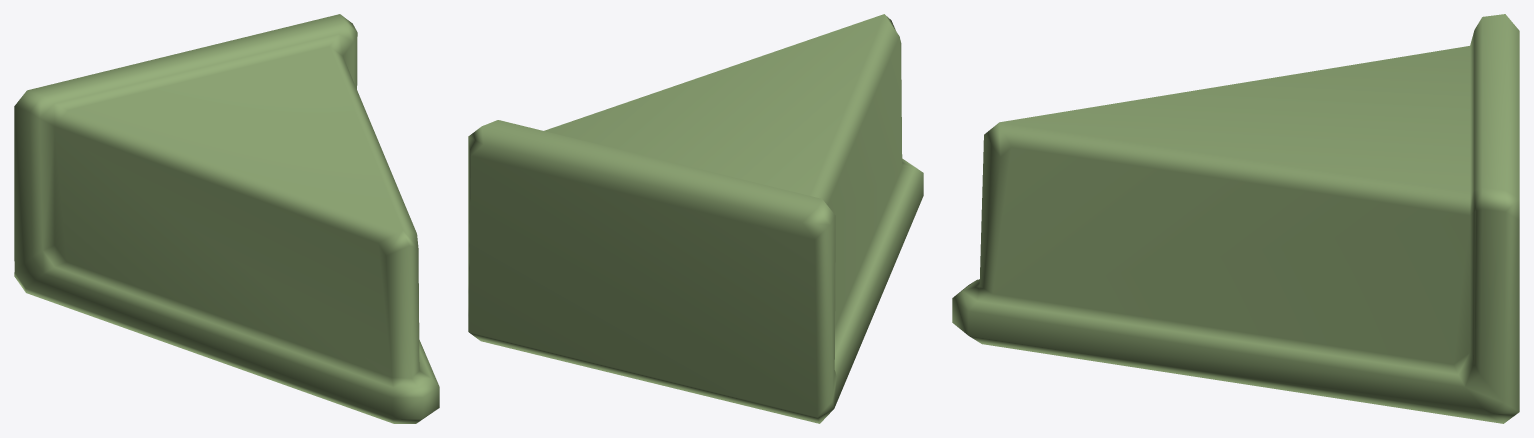
File: PROPS_GOODS_CHEESECAKE_MODEL.fbx
The picture shows the model from 3 angles, left to right: view 1: azimuth 30°, elevation 25°; view 2: azimuth 150°, elevation 25°; view 3: azimuth 270°, elevation 25°; orthographic projection. The views are drawn at different scales.
Parts seen in each view (by area): view 1: PROPS_GOODS_CHEESECAKE_MODEL; view 2: PROPS_GOODS_CHEESECAKE_MODEL; view 3: PROPS_GOODS_CHEESECAKE_MODEL.
Part boxes in pixels (x1=…): PROPS_GOODS_CHEESECAKE_MODEL: x1=14, y1=14, x2=439, y2=423; PROPS_GOODS_CHEESECAKE_MODEL: x1=468, y1=14, x2=923, y2=423; PROPS_GOODS_CHEESECAKE_MODEL: x1=952, y1=14, x2=1519, y2=423.
Bounding box in the file's own units: 14.46 × 8.21 × 18.14.
